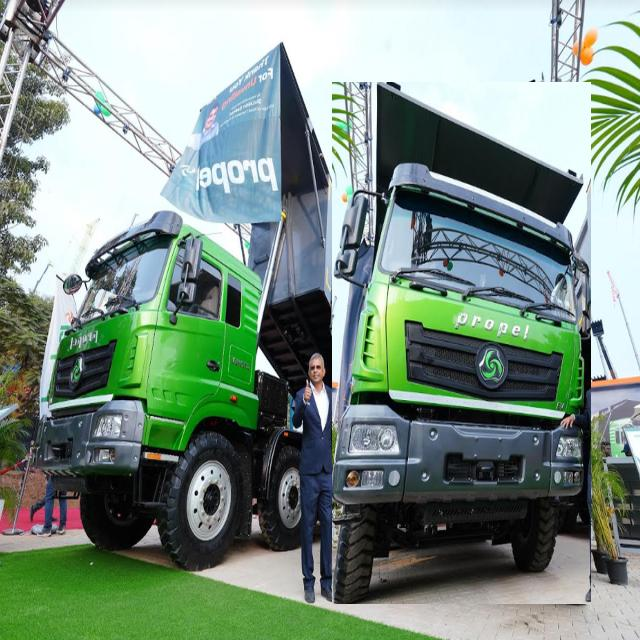truck: (36, 44, 346, 569), (332, 83, 590, 604)
